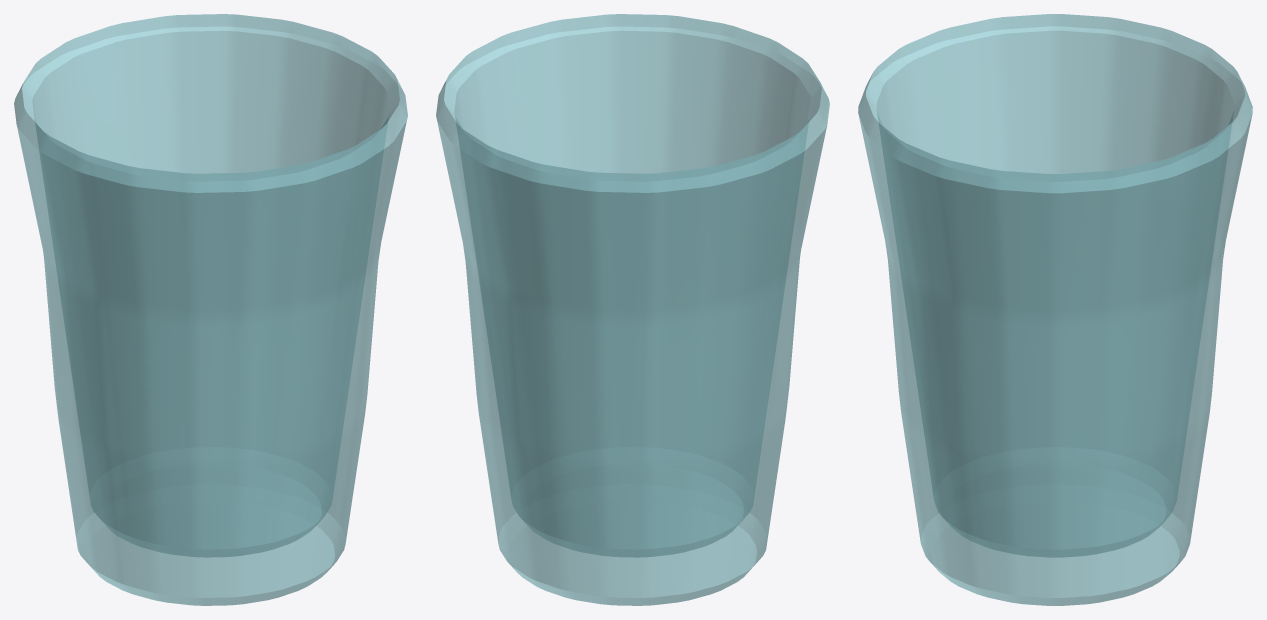
Rendered from glass.fbx.
3 views of the same model, side by side, from view 1: azimuth 30°, elevation 25°; view 2: azimuth 150°, elevation 25°; view 3: azimuth 270°, elevation 25° (orthographic).
Visible parts, largest first — view 1: pCylinder13; view 2: pCylinder13; view 3: pCylinder13.
Boxes of the visible parts, bbox=[...] form: pCylinder13: bbox=[14, 14, 407, 605]; pCylinder13: bbox=[436, 14, 829, 605]; pCylinder13: bbox=[858, 14, 1252, 605].
Bounding box in the file's own units: 0.7409 × 0.9518 × 0.7409.
